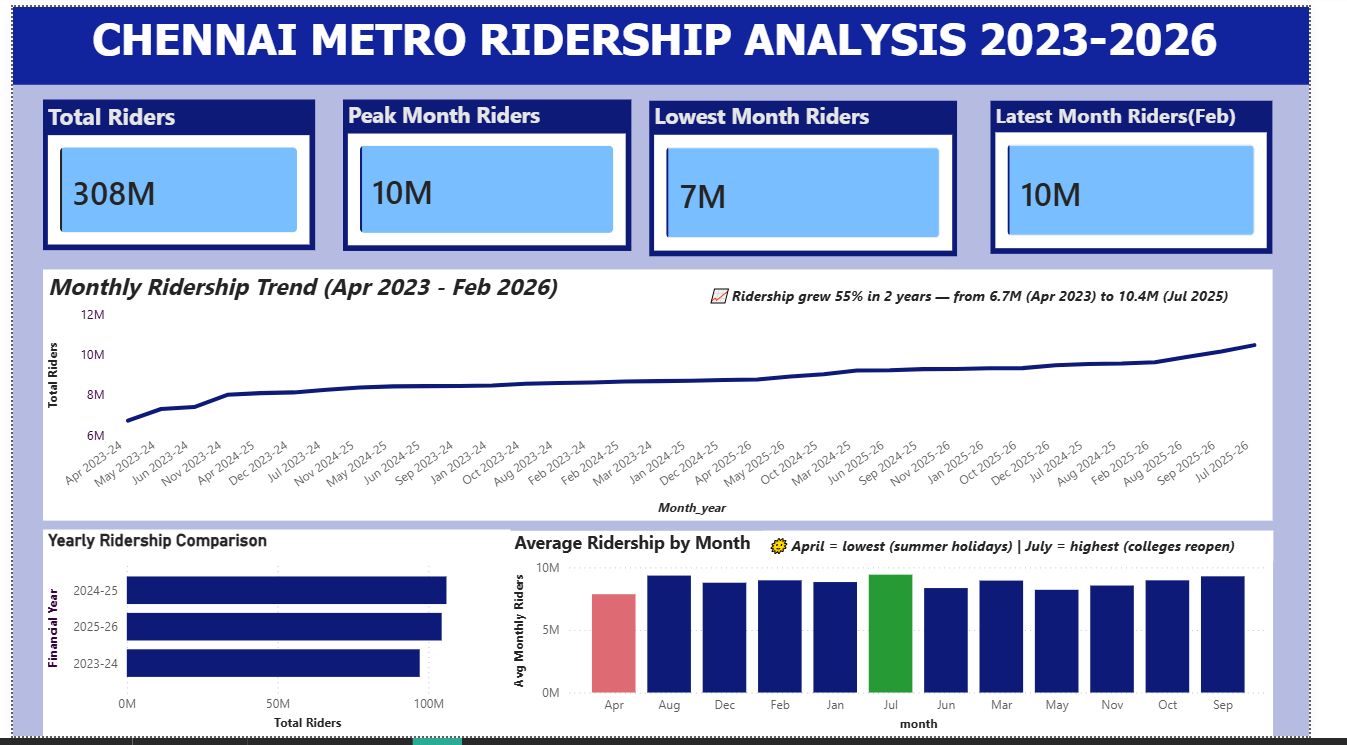

What the dashboard file says about the page in this screenshot:
{"tool":"powerbi","page":{"name":"Overview","canvas":[1280,720],"ordinal":0},"visuals":[{"type":"textbox","box":[0,0,1280.3,76.8],"z":0},{"type":"cardVisual","title":"Total Riders","fields":{"Data":["ridership_payments.Total Riders"]},"box":[29.4,90.8,268.7,148.5],"z":1000},{"type":"cardVisual","title":"Peak Month Riders","fields":{"Data":["ridership_payments.Peak month riders"]},"box":[326.4,90.8,284.7,149.7],"z":2000},{"type":"cardVisual","title":"Lowest Month Riders","fields":{"Data":["ridership_payments.Low month riders"]},"box":[628.2,92,304.3,153.4],"z":3000},{"type":"cardVisual","title":"Latest Month Riders(Feb)","fields":{"Data":["ridership_payments.latest month riders"]},"box":[965.6,92,278.5,150.9],"z":4000},{"type":"lineChart","title":"Monthly Ridership Trend (Apr 2023 - Feb 2026)","fields":{"Y":["Sum(ridership_payments.total)"],"Category":["ridership_payments.month_year"]},"box":[29.4,258.9,1214.7,247.9],"z":5000},{"type":"clusteredBarChart","title":"Yearly Ridership Comparison","fields":{"Category":["ridership_payments.financial_year"],"Y":["Sum(ridership_payments.total)"]},"box":[29.4,516.6,461.4,203.7],"z":6000},{"type":"clusteredColumnChart","title":"Average Ridership by Month","fields":{"Category":["ridership_payments.month"],"Y":["ridership_payments.Avg Monthly Riders"]},"box":[490,517,754,203],"z":7000},{"type":"textbox","box":[682.7,270.4,539.5,37],"z":7001},{"type":"textbox","box":[740.7,517.3,503.7,29.6],"z":7002}]}

Visuals, with their boxes in screenshot pixels (x1, y1, x2, y2), scaled from the page's 1280x720 canvas onto the 1347x745 screenshot:
textbox: pyautogui.locateOnScreen(0, 0, 1346, 79)
"Total Riders" cardVisual: pyautogui.locateOnScreen(31, 94, 314, 248)
"Peak Month Riders" cardVisual: pyautogui.locateOnScreen(343, 94, 643, 249)
"Lowest Month Riders" cardVisual: pyautogui.locateOnScreen(661, 95, 981, 254)
"Latest Month Riders(Feb)" cardVisual: pyautogui.locateOnScreen(1016, 95, 1309, 251)
"Monthly Ridership Trend (Apr 2023 - Feb 2026)" lineChart: pyautogui.locateOnScreen(31, 268, 1309, 524)
"Yearly Ridership Comparison" clusteredBarChart: pyautogui.locateOnScreen(31, 535, 516, 744)
"Average Ridership by Month" clusteredColumnChart: pyautogui.locateOnScreen(516, 535, 1309, 744)
textbox: pyautogui.locateOnScreen(718, 280, 1286, 318)
textbox: pyautogui.locateOnScreen(779, 535, 1310, 566)
